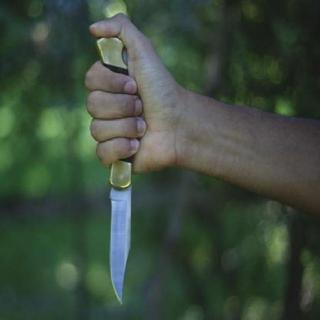knife: (82, 88, 150, 312)
